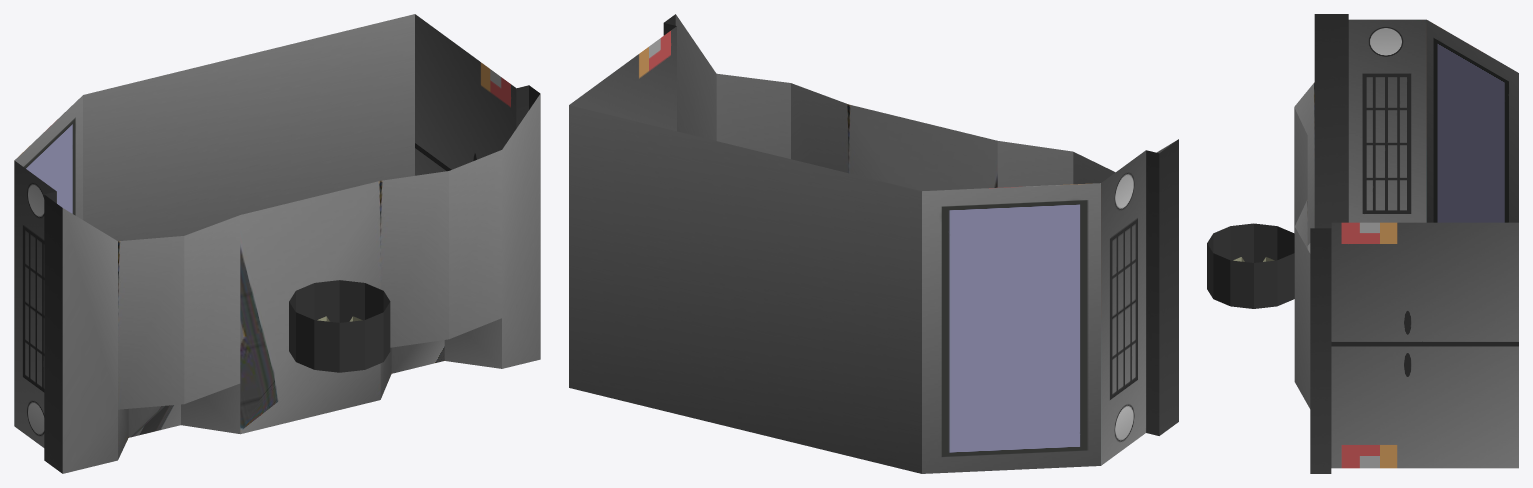
Rendered from bus.fbx.
3 renders of one model, left to right at view 1: azimuth 30°, elevation 25°; view 2: azimuth 150°, elevation 25°; view 3: azimuth 270°, elevation 25°, orthographic. The views are drawn at different scales.
Visible parts, largest first — view 1: car_cabine, wheel; view 2: car_cabine; view 3: car_cabine, wheel.
Boxes of the visible parts, x1=… form: car_cabine: x1=14, y1=14, x2=540, y2=473; wheel: x1=289, y1=280, x2=390, y2=372; car_cabine: x1=569, y1=14, x2=1178, y2=473; car_cabine: x1=1294, y1=14, x2=1518, y2=473; wheel: x1=1207, y1=223, x2=1294, y2=308.
Size of the model in its own units: 1084 by 579 by 666.
